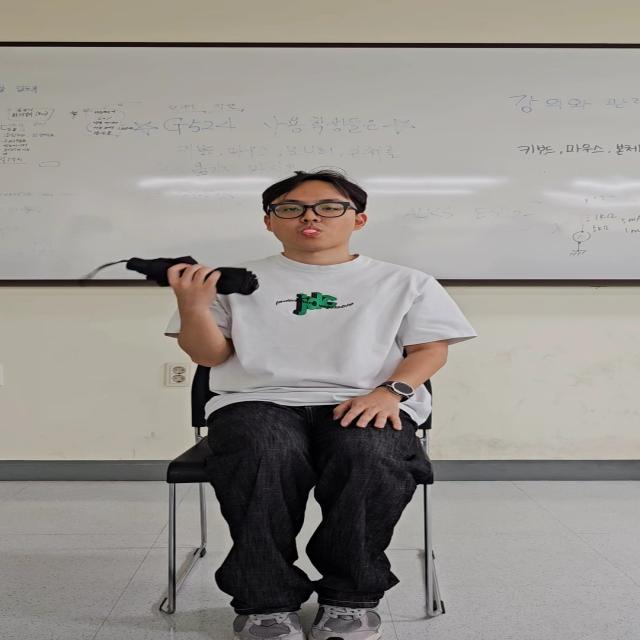curl: (60, 219, 298, 376)
